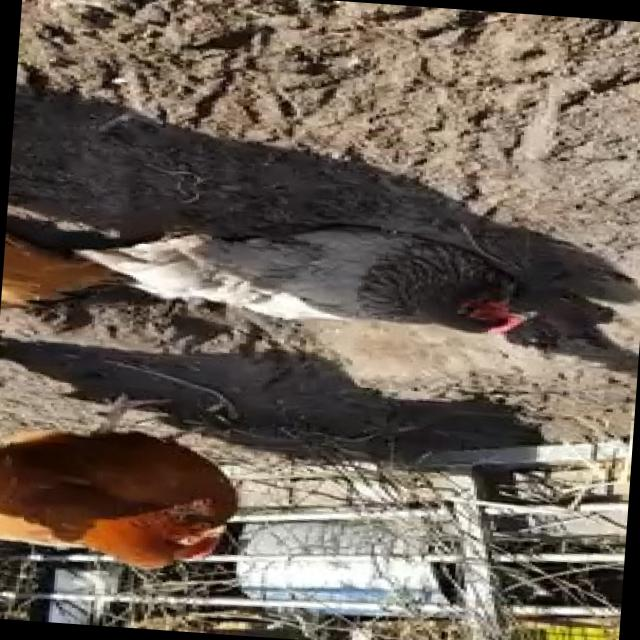stand bath: (72, 193, 552, 361), (0, 383, 241, 604)
